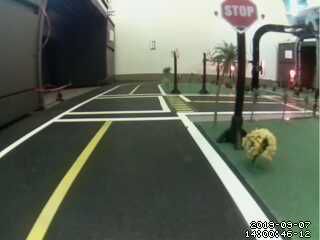Stop_Sign: (221, 3, 261, 33)
